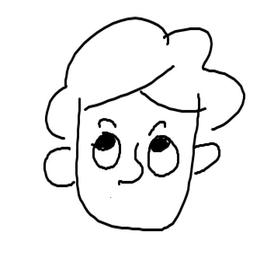ear: (35, 144, 78, 191), (194, 137, 225, 178)
eye: (145, 134, 182, 181), (85, 132, 124, 172)
eyebrow: (96, 117, 120, 130)
frowning_eyebrow: (149, 118, 168, 136)
nose: (115, 140, 146, 190)
